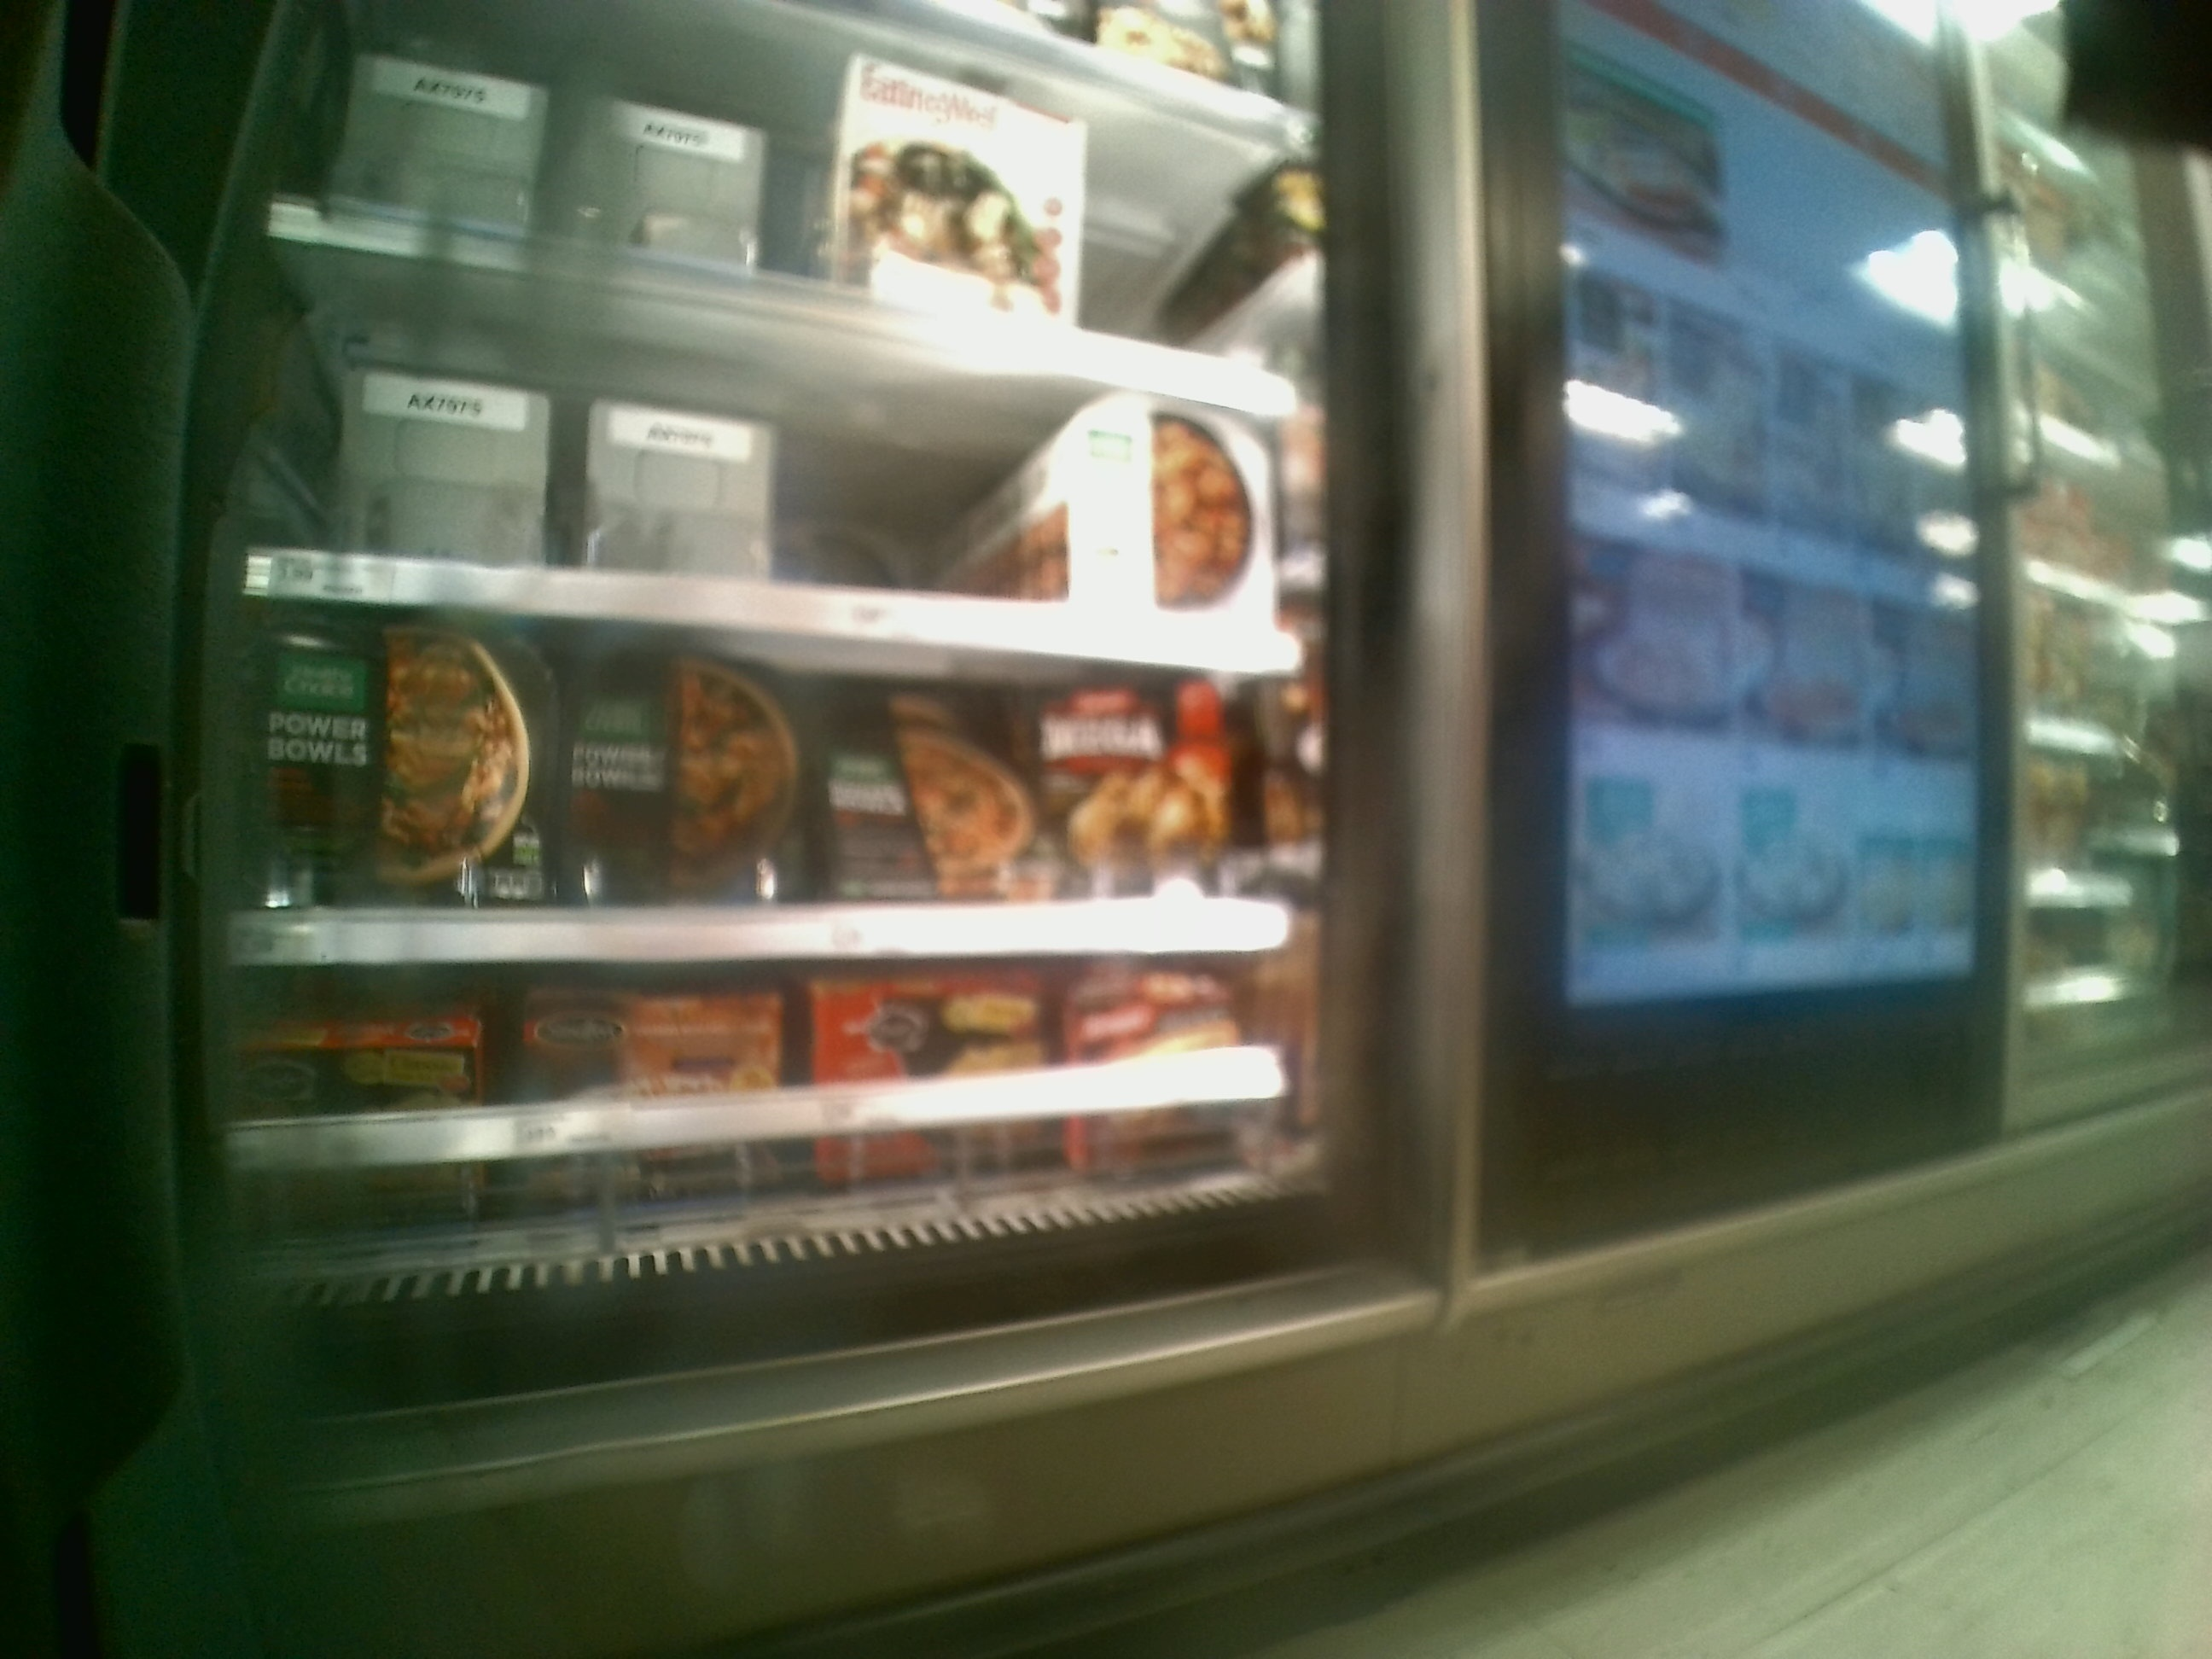shelf: (230, 601, 1303, 957), (235, 964, 1339, 1284)
